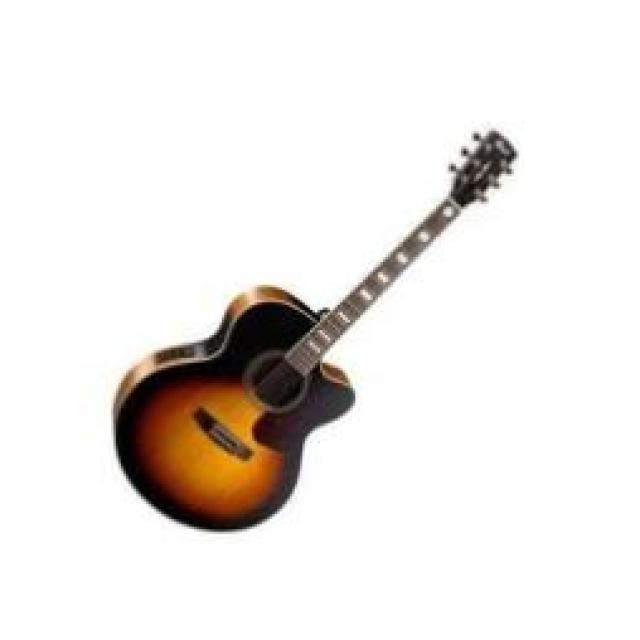acousticguitar: (116, 131, 517, 527)
